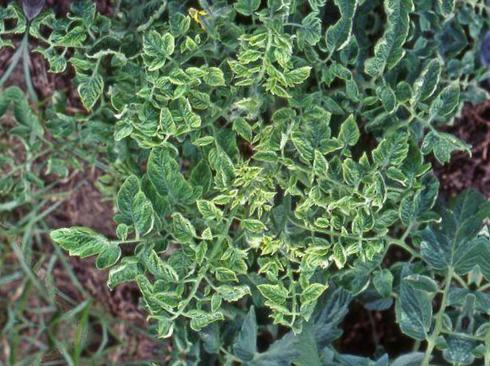Tomato mold leaf: (410, 168, 490, 277), (36, 216, 128, 278), (135, 143, 200, 209), (107, 165, 164, 235), (357, 22, 419, 86), (413, 124, 479, 176), (288, 108, 339, 168), (401, 53, 445, 122), (423, 72, 474, 131), (368, 119, 415, 173), (98, 249, 145, 300), (130, 26, 178, 74), (136, 240, 186, 284), (319, 13, 361, 61), (71, 72, 109, 119), (330, 109, 370, 153), (275, 60, 312, 91), (190, 195, 227, 225), (228, 114, 260, 143), (201, 65, 234, 93), (153, 104, 180, 138)
